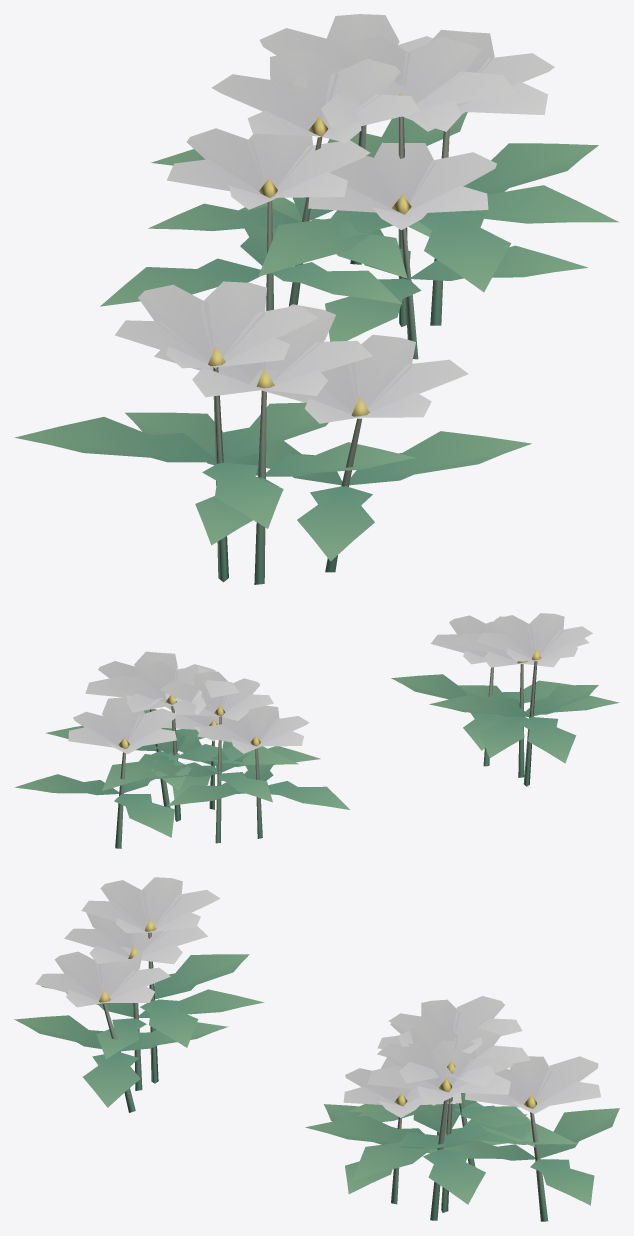
The model's file is anemone_patch_a_mid.glb.
3 renders of one model, top to bottom at view 1: azimuth 30°, elevation 25°; view 2: azimuth 150°, elevation 25°; view 3: azimuth 270°, elevation 25°, orthographic. The views are drawn at different scales.
Parts seen in each view (by area): view 1: soft; view 2: soft; view 3: soft.
Boxes of the visible parts, left/top/right/bottom form: soft: left=14, top=14, right=618, bottom=584; soft: left=14, top=613, right=619, bottom=848; soft: left=14, top=877, right=619, bottom=1221.
Size of the model in its own units: 0.7579 by 0.2574 by 0.7946.
